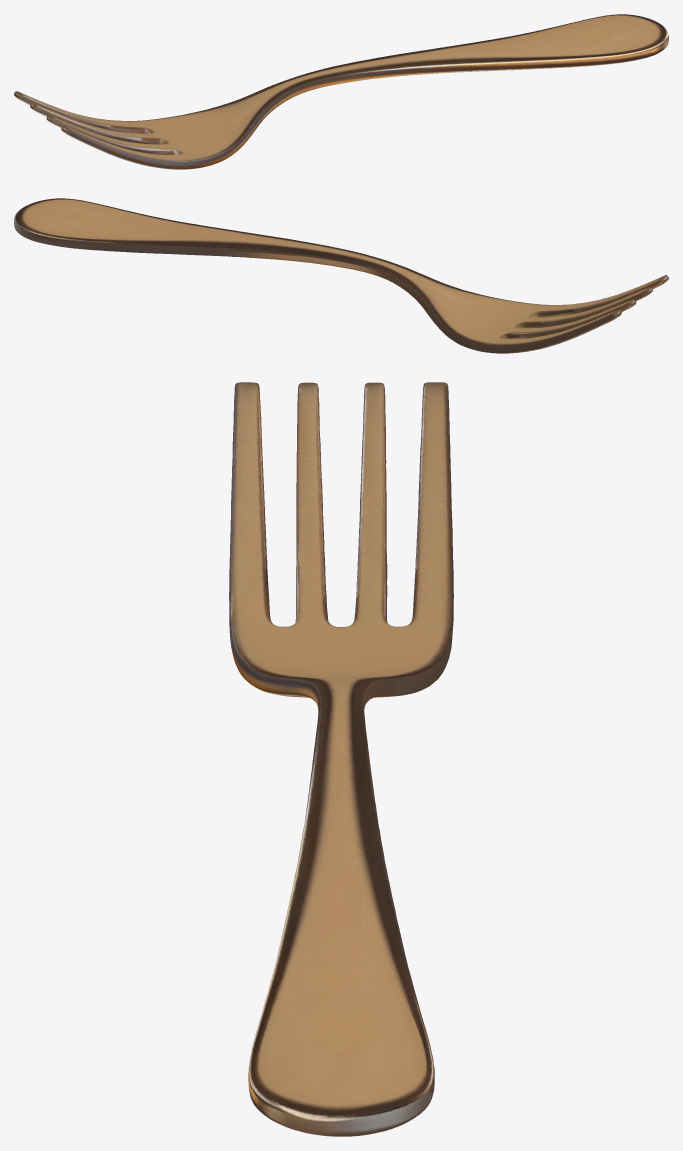
Rendered from fork.glb.
3 renders of one model, top to bottom at view 1: azimuth 30°, elevation 25°; view 2: azimuth 150°, elevation 25°; view 3: azimuth 270°, elevation 25°, orthographic. The views are drawn at different scales.
Size of the model in its own units: 1.9 by 0.2287 by 0.2968.
Materials: 1 (1 with a texture image).
